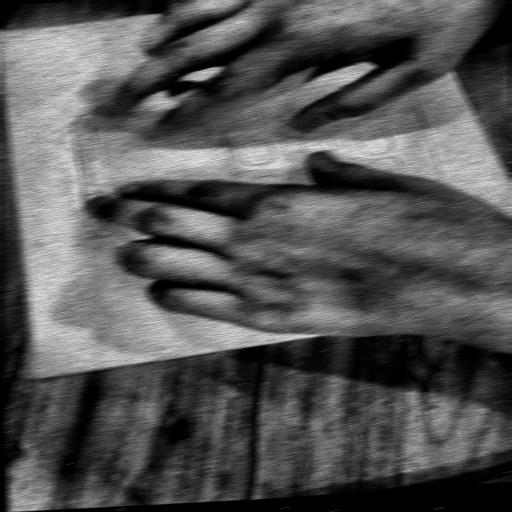mobile: (19, 57, 466, 250)
top_left: (28, 373, 41, 379)
top_right: (0, 26, 5, 33)
